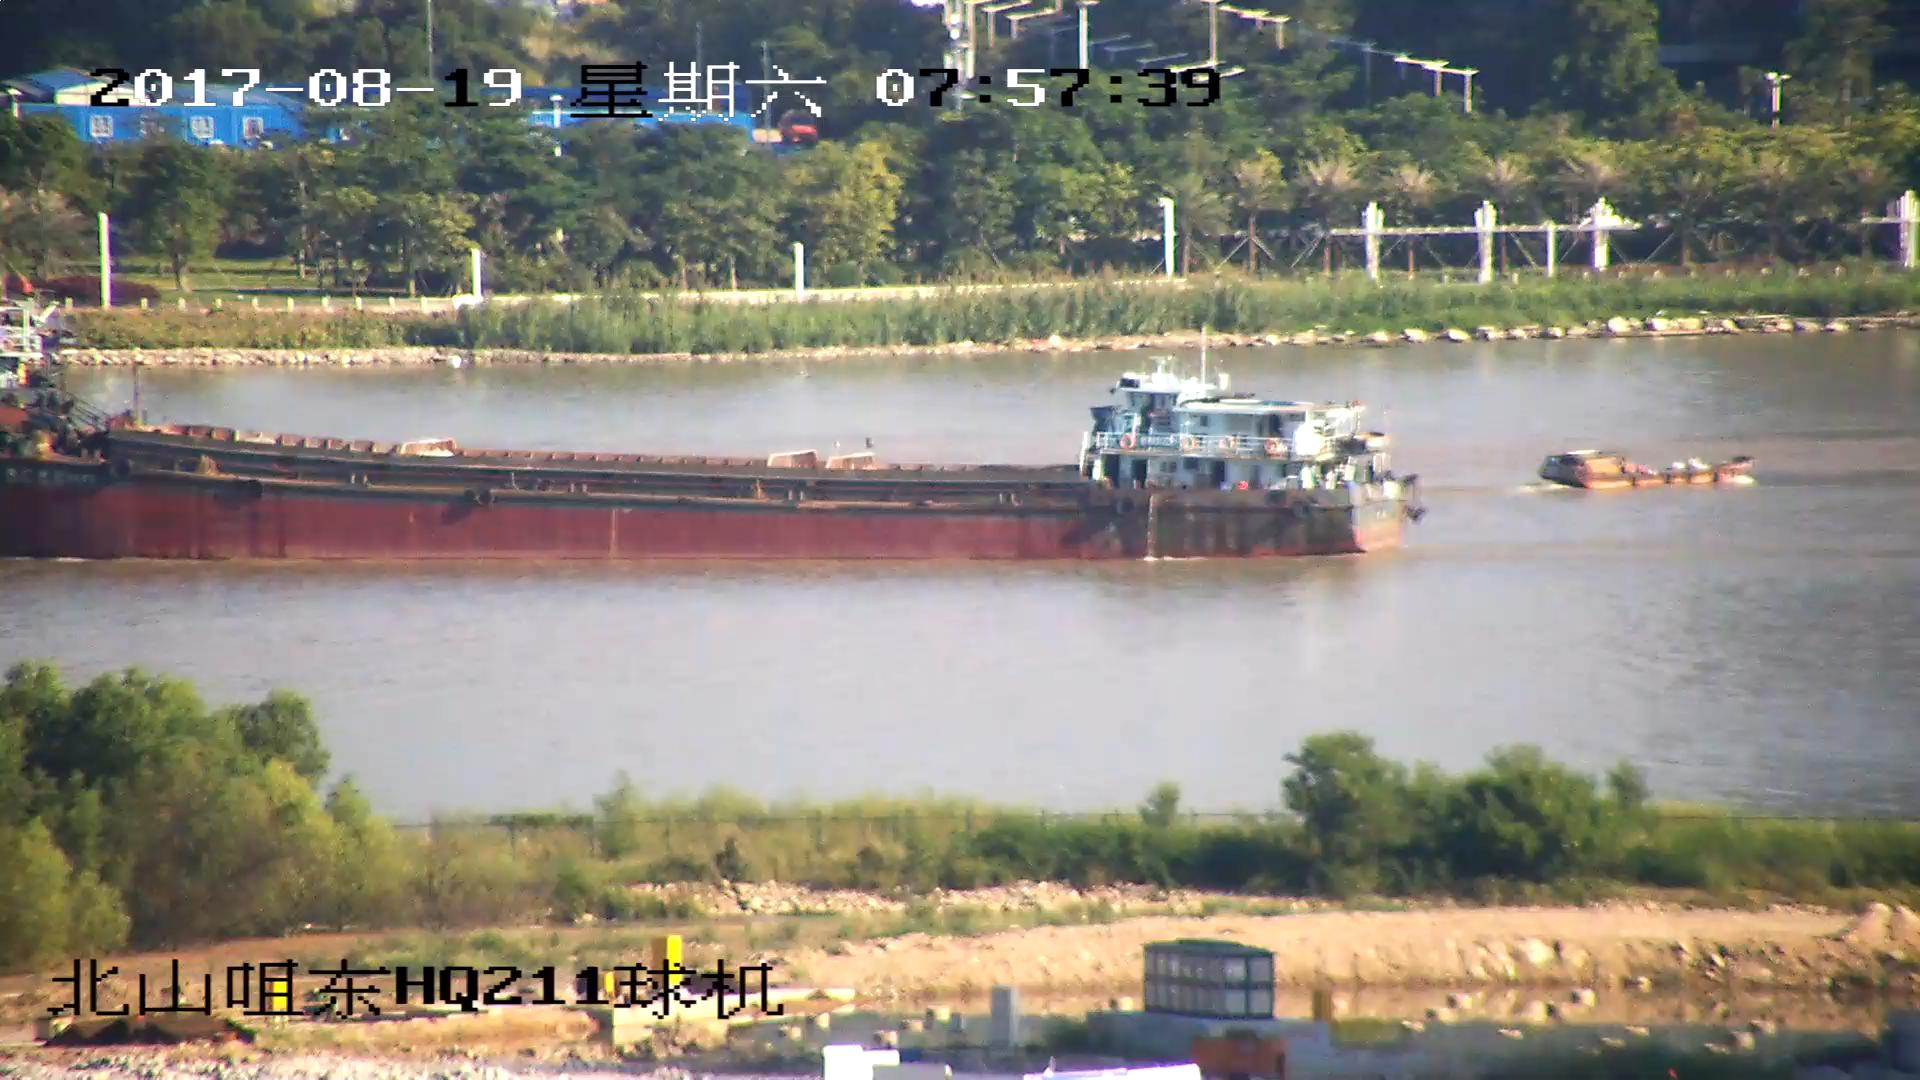bulk cargo carrier: (1, 318, 1416, 562)
fishing boat: (1535, 443, 1758, 493)
